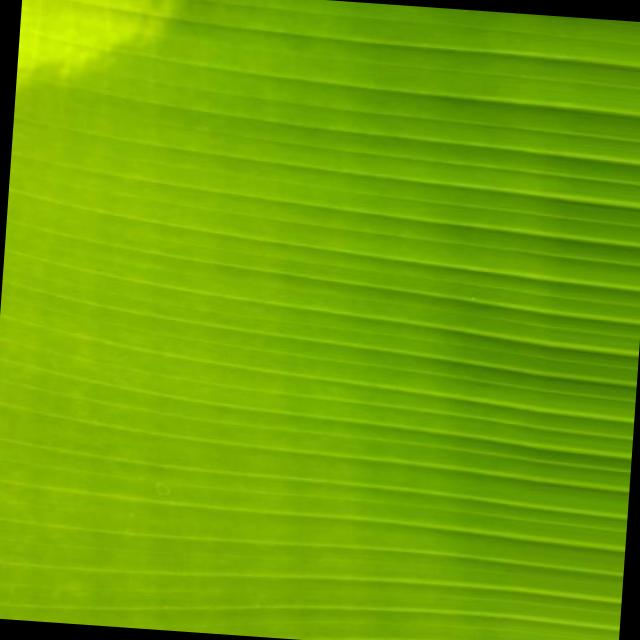Banana_Healthy: (130, 36, 554, 538)
